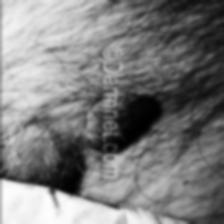Potentially Malignant Skin Tumors: (84, 90, 160, 154)
